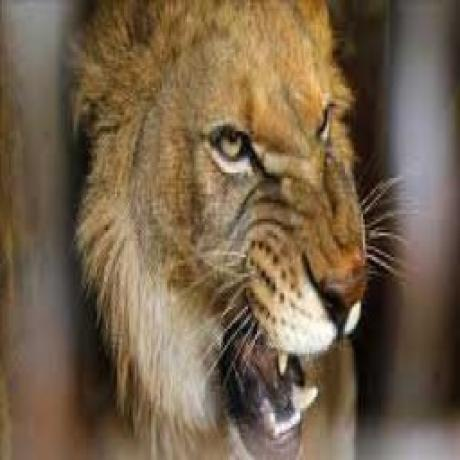Lion: (57, 0, 411, 460)
